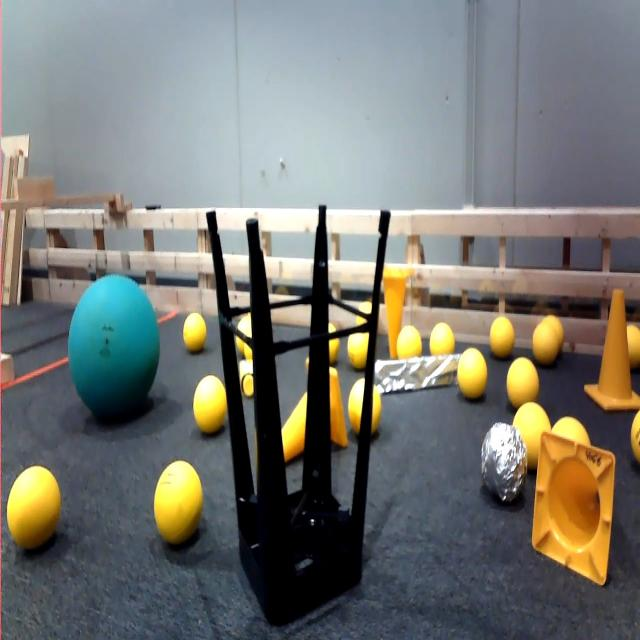fuel: (4, 455, 76, 544), (151, 450, 208, 560), (193, 366, 233, 447), (344, 372, 387, 447), (509, 395, 556, 462), (451, 340, 498, 406), (177, 301, 213, 363), (343, 319, 376, 380), (486, 310, 524, 362), (505, 355, 543, 405), (529, 322, 564, 372), (552, 413, 598, 447), (394, 318, 425, 362), (427, 318, 458, 360), (320, 319, 344, 368), (539, 303, 569, 337), (625, 308, 640, 376), (625, 400, 640, 462), (231, 314, 248, 354), (357, 294, 376, 326), (243, 326, 256, 359)
